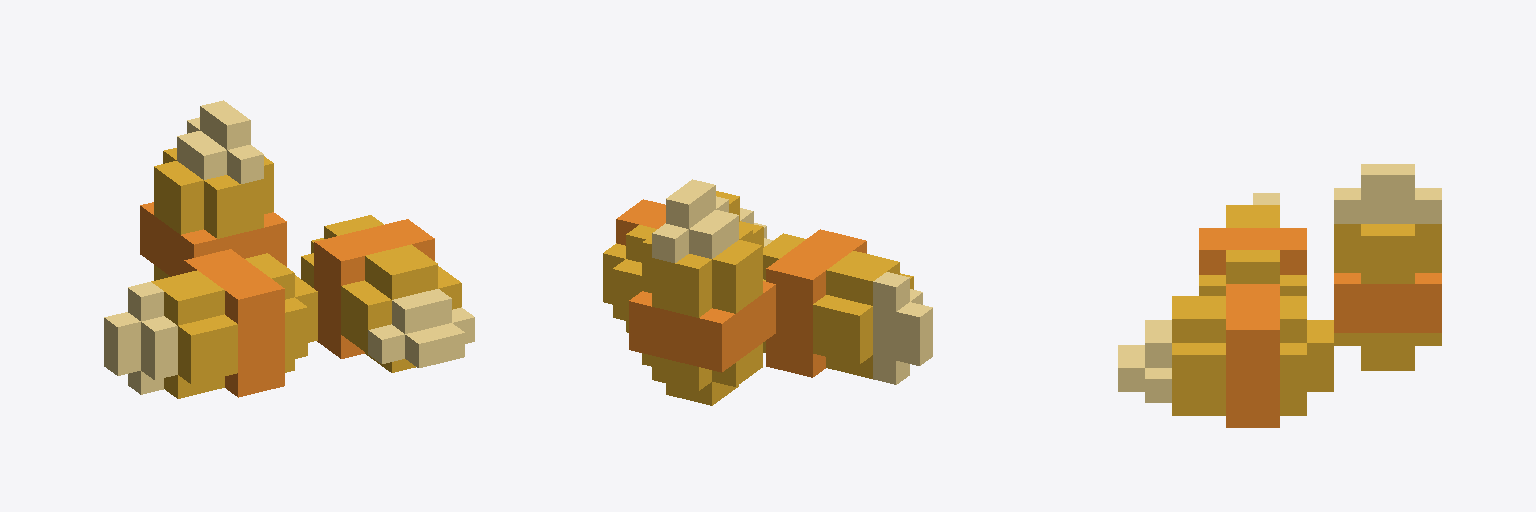
The picture shows the model from 3 angles: view 1: azimuth 30°, elevation 25°; view 2: azimuth 150°, elevation 25°; view 3: azimuth 270°, elevation 25°; orthographic projection.
Visible parts, largest first — view 1: Union; view 2: Union; view 3: Union.
Boxes of the visible parts, box(x1,y1,x2,y2) form: Union: box(104, 100, 474, 398); Union: box(603, 179, 932, 405); Union: box(1118, 164, 1441, 427).
Bounding box in the file's own units: 13 × 8 × 12.
1 materials, 1 textured.